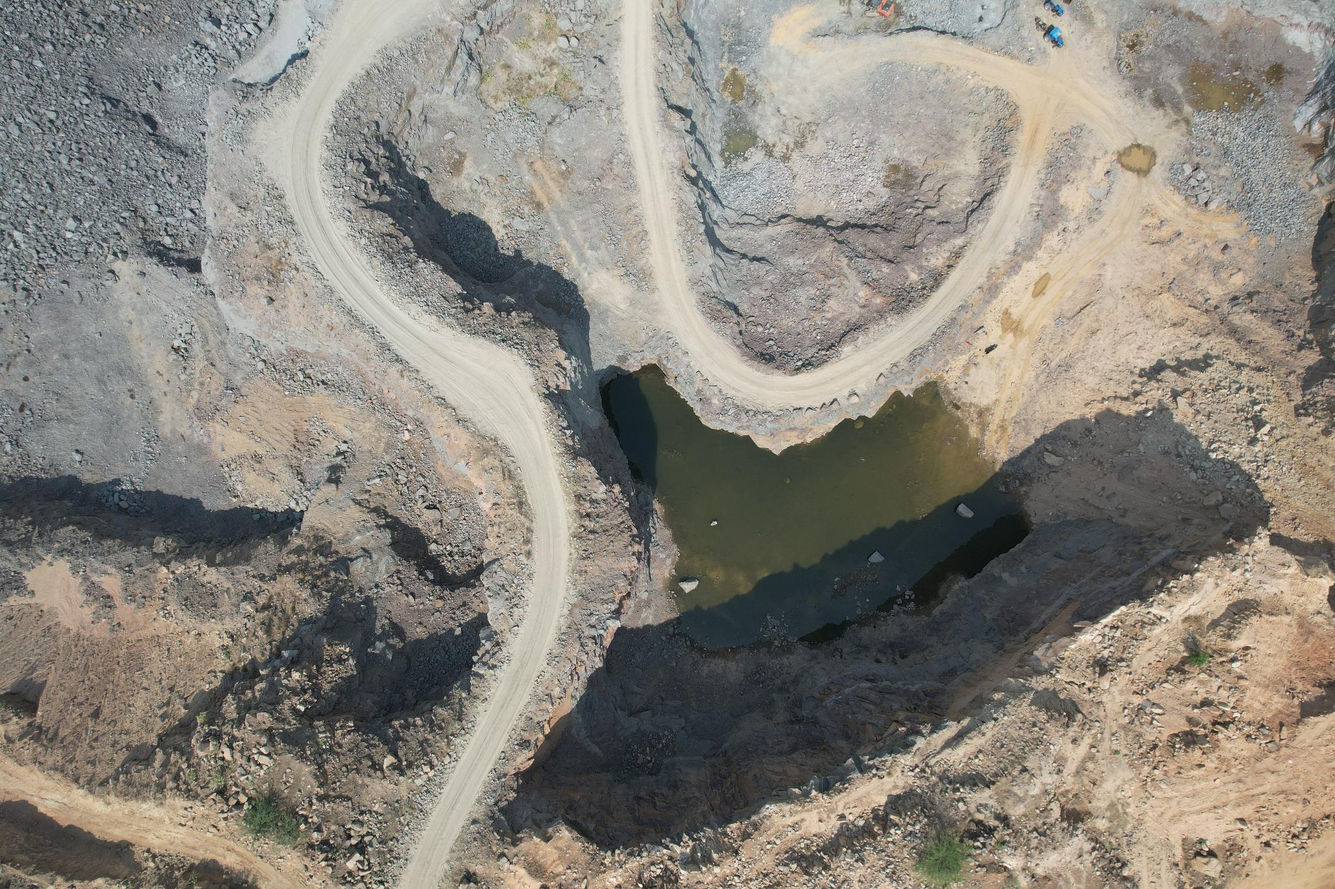benches: (279, 11, 572, 889), (619, 0, 1084, 410)
